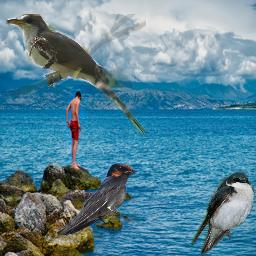Cuckoo: (6, 14, 146, 134)
Swallow: (56, 163, 139, 236), (191, 169, 256, 255)
